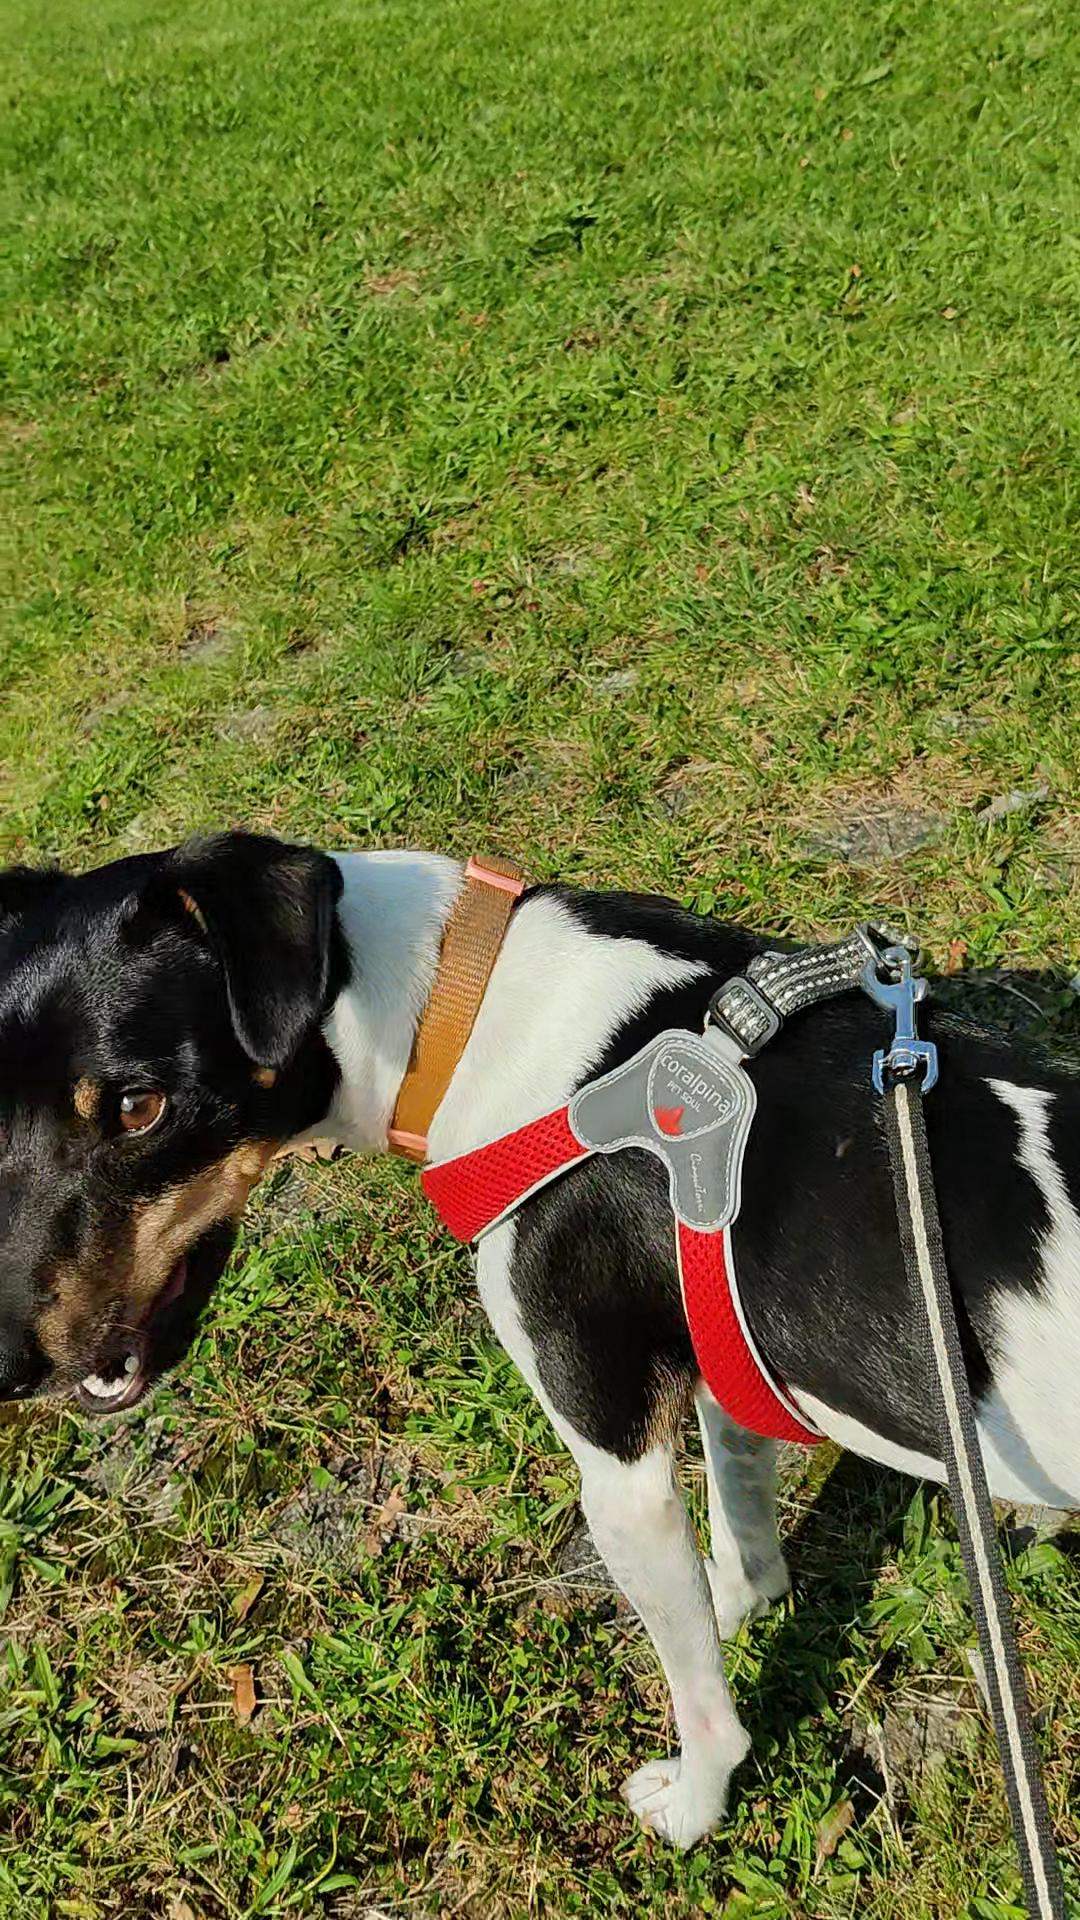Dog: (0, 806, 1079, 1867)
